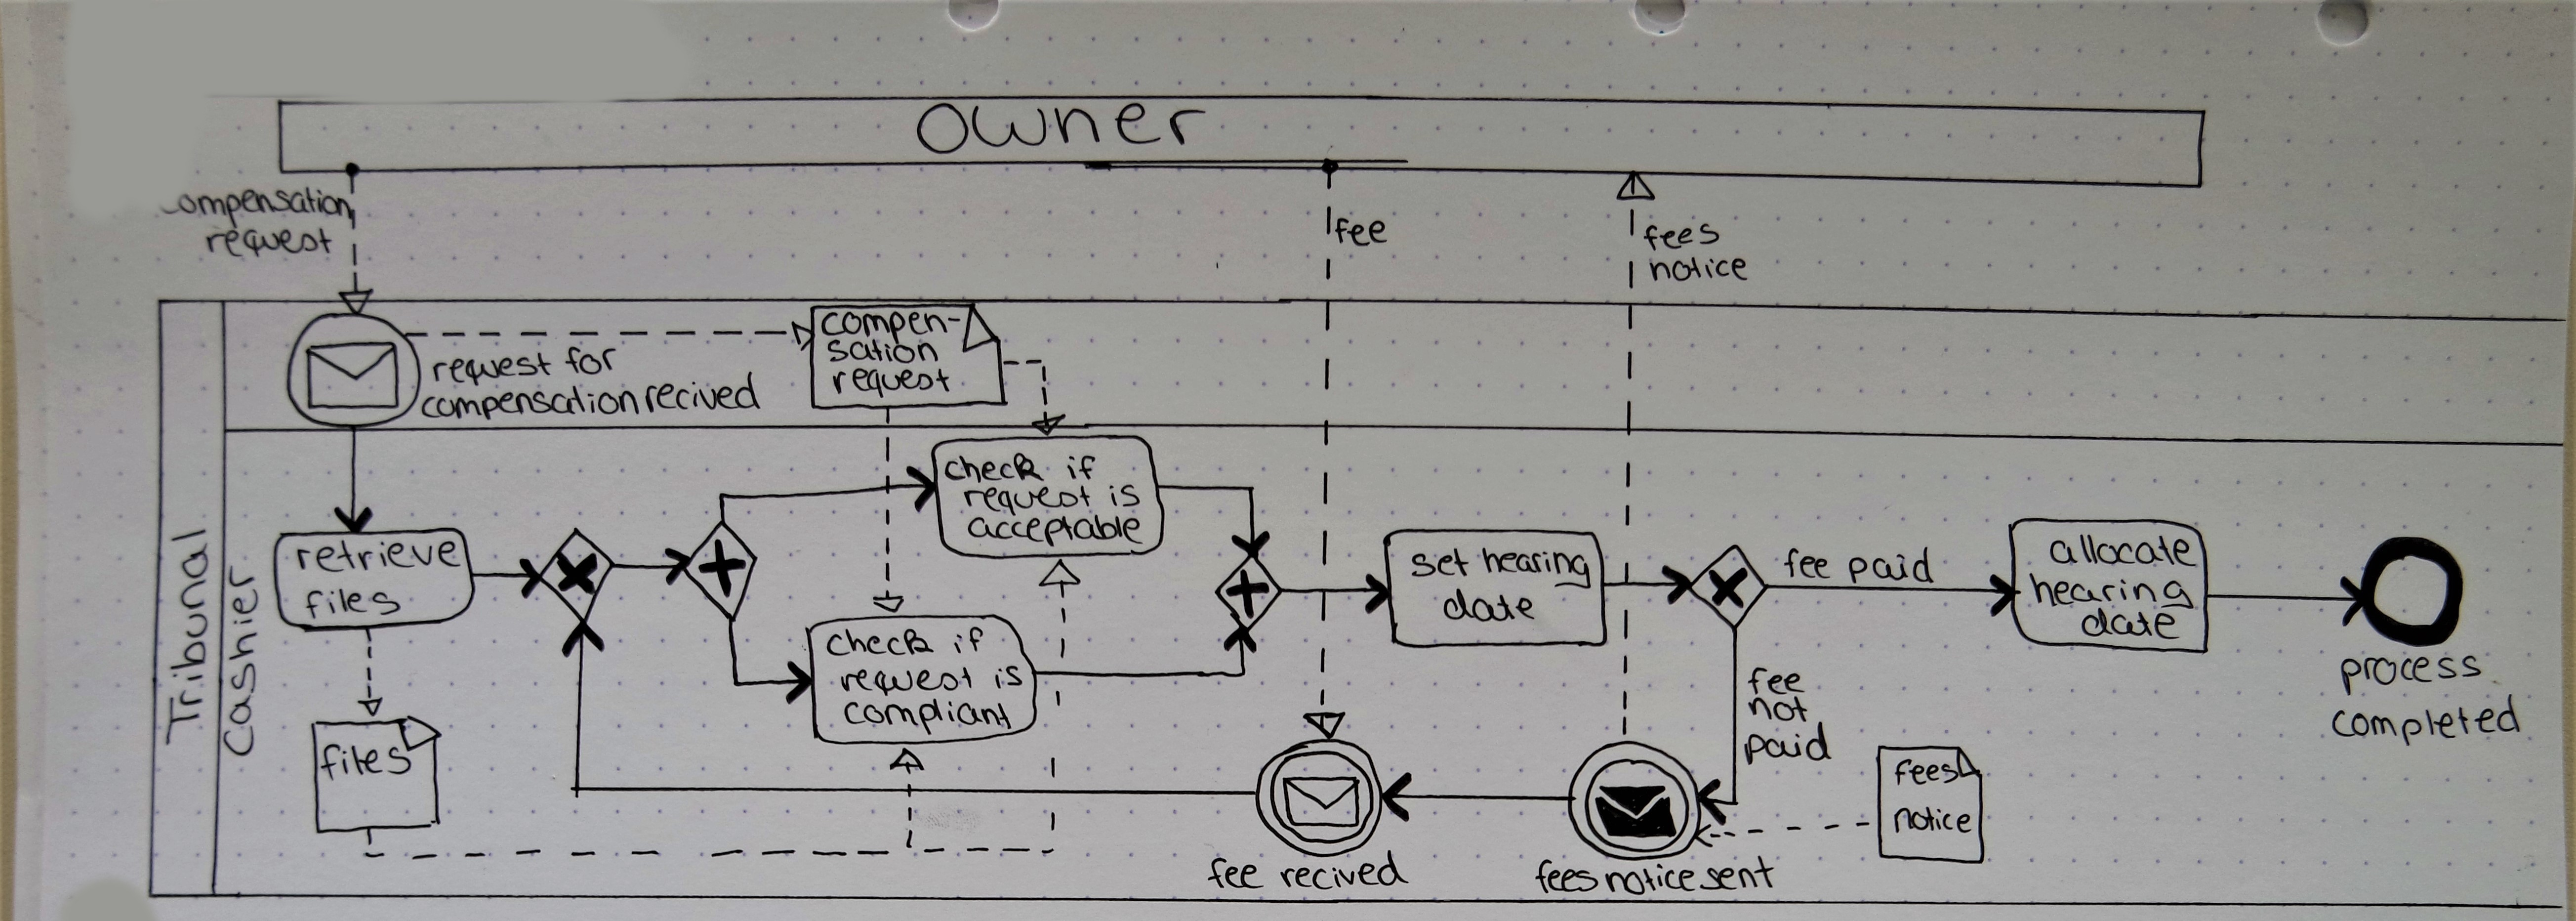Cashier: (218, 553, 264, 760)
Tribunal: (161, 523, 214, 748)
acceptable: (964, 511, 1147, 551)
allocate: (2047, 531, 2201, 571)
check: (823, 625, 938, 661), (941, 449, 1048, 485)
compen-: (816, 309, 964, 347)
compensation: (153, 184, 355, 232), (416, 383, 644, 424)
completed: (2328, 691, 2525, 750)
compliant: (839, 696, 1015, 738)
date: (1441, 584, 1539, 627), (2078, 604, 2183, 643)
fee: (1206, 854, 1270, 893), (1743, 663, 1809, 699), (1332, 212, 1391, 252), (1781, 544, 1833, 582)
fees: (1531, 857, 1602, 898), (1640, 220, 1723, 255), (1891, 757, 1963, 789)
files: (317, 740, 416, 786), (302, 584, 404, 623)
for: (562, 342, 619, 378)
hearing: (2026, 569, 2198, 613), (1479, 543, 1595, 594)
if: (951, 623, 986, 656), (1065, 452, 1099, 482)
is: (1106, 482, 1143, 511), (992, 663, 1025, 692)
not: (1745, 694, 1812, 727)
notice: (1602, 860, 1699, 898), (1646, 253, 1751, 286), (1891, 803, 1975, 837)
owner: (908, 100, 1221, 158)
paid: (1740, 719, 1837, 770), (1847, 543, 1937, 587)
process: (2336, 650, 2486, 702)
recived: (1276, 845, 1414, 895), (642, 368, 764, 418)
request: (429, 349, 557, 390), (202, 224, 335, 263), (961, 482, 1097, 520), (836, 664, 976, 699), (830, 365, 953, 401)
retrieve: (292, 535, 467, 577)
sation: (823, 336, 941, 367)
sent: (1697, 854, 1778, 893)
set: (1408, 544, 1472, 582)
